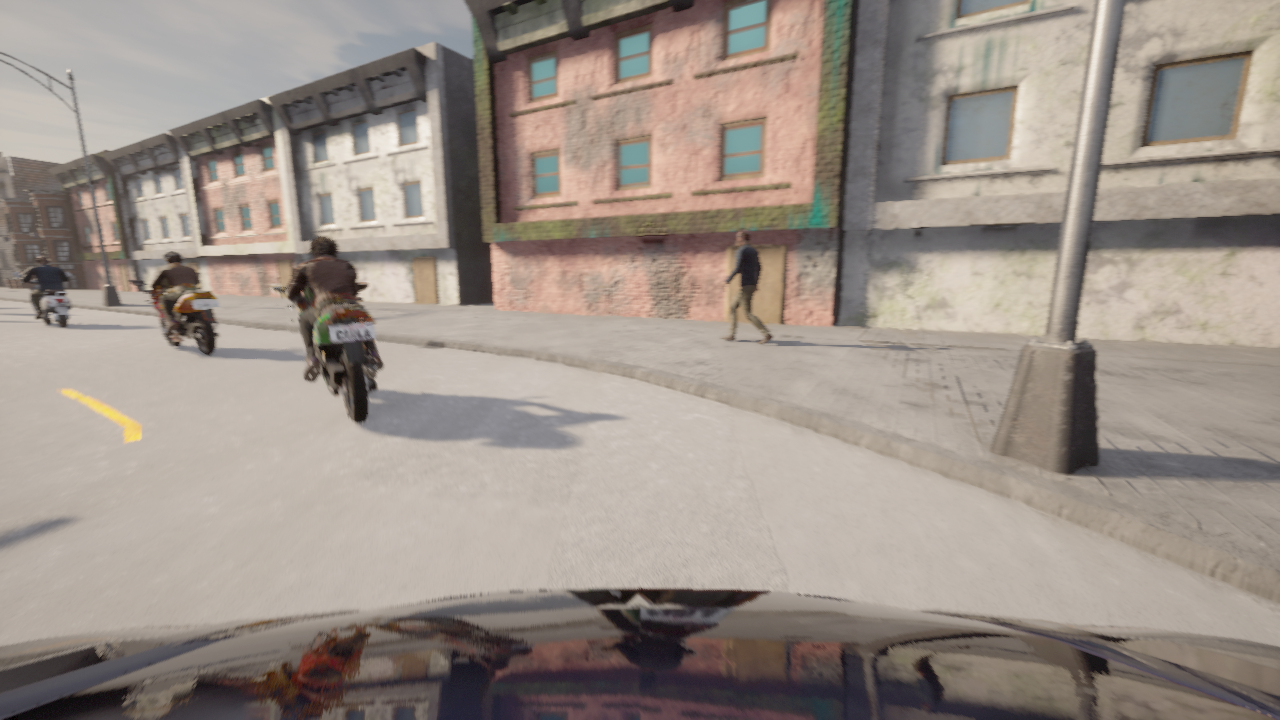cyclist: (0, 588, 1279, 719), (271, 282, 378, 423), (130, 277, 220, 355), (13, 272, 71, 327)
pedestrian: (719, 229, 773, 344)
